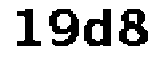1: (13, 5, 41, 51)
8: (117, 6, 151, 48)
9: (46, 7, 80, 49)
d: (81, 6, 116, 51)
